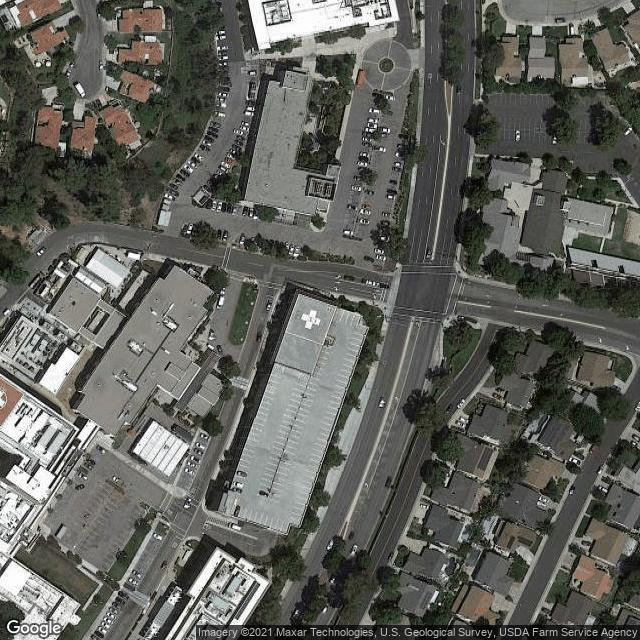Helipad: (295, 302, 326, 332)
